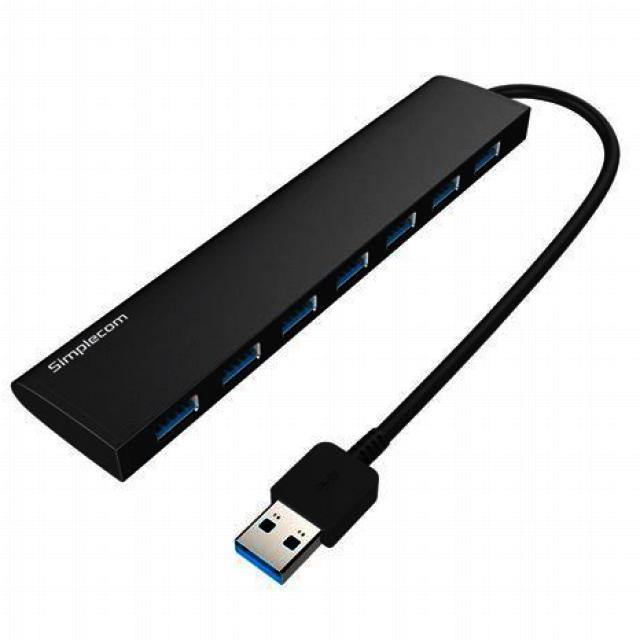usb port: (220, 338, 260, 386), (148, 405, 205, 434), (382, 207, 417, 253), (283, 296, 317, 340), (334, 254, 369, 294), (431, 168, 460, 208), (472, 138, 502, 170)
